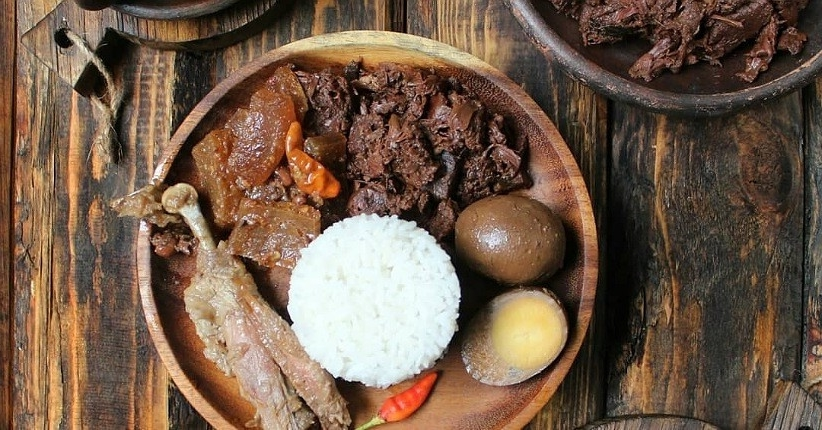gudeg: (161, 64, 567, 430)
